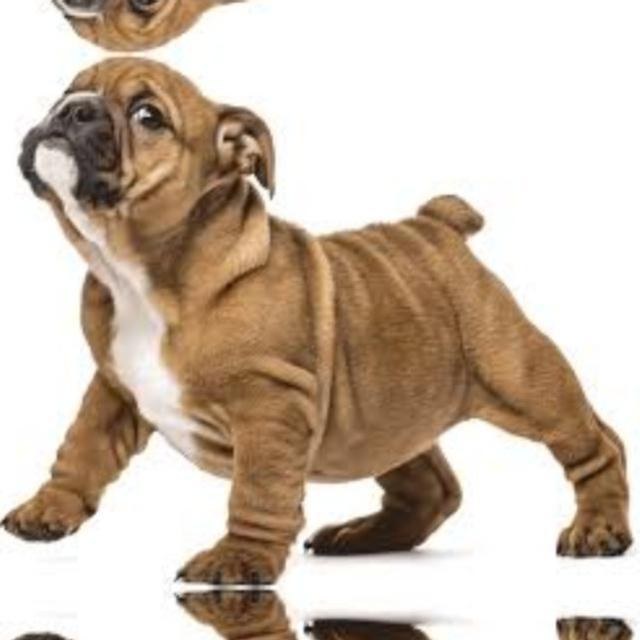dog: (0, 58, 634, 586), (0, 587, 634, 640), (0, 0, 634, 48)
